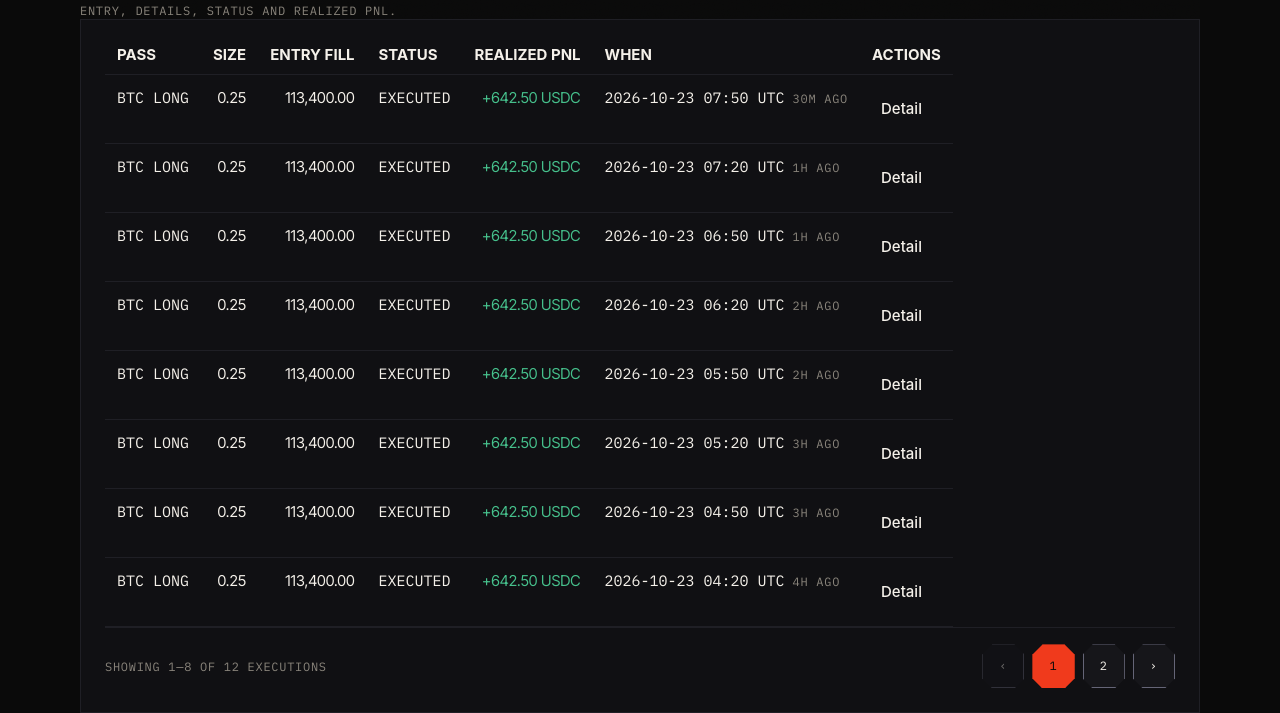
Scenario: Executions redesign (reference 16) › paginates the table
(page scrolled)
Expected: the text "Showing 1–8 of 12 executions" is shown, [105,658,327,675]
Click the button named "Page 2" at (1104, 666), box [1083,644,1125,688]
(page scrolled)
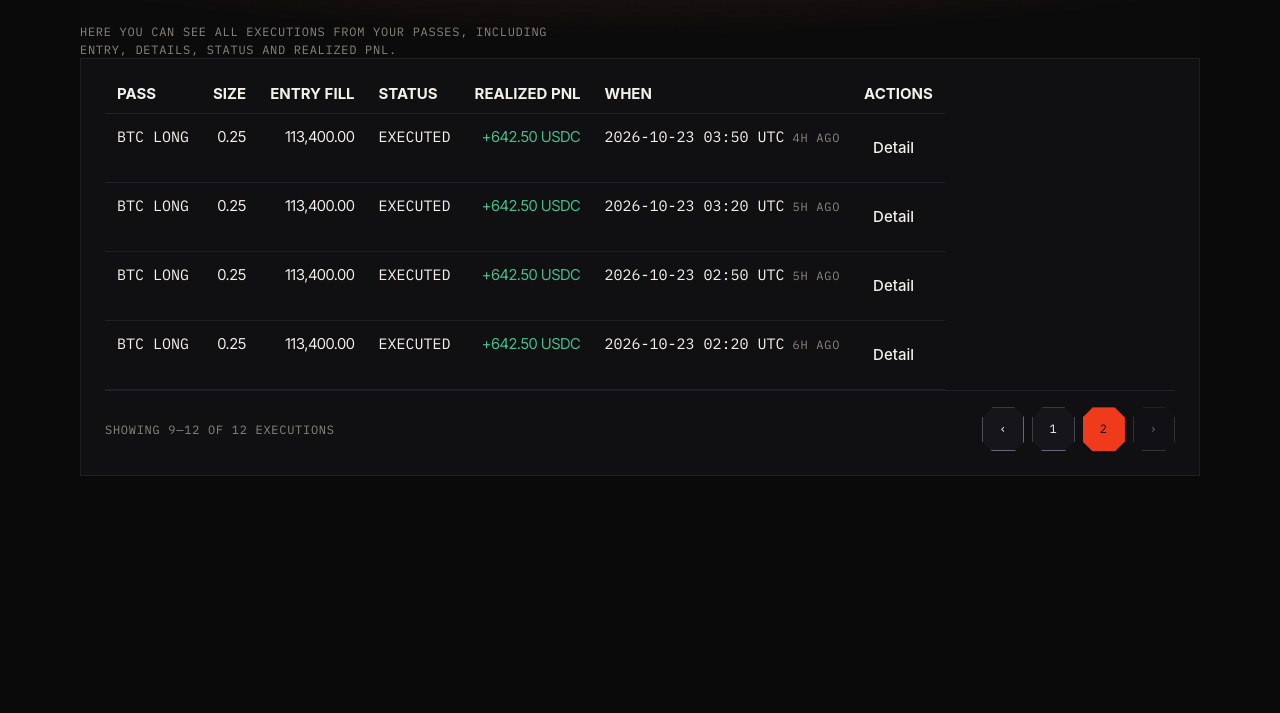
Now the text "Showing 9–12 of 12 executions" is shown, box [105,421,335,438]
